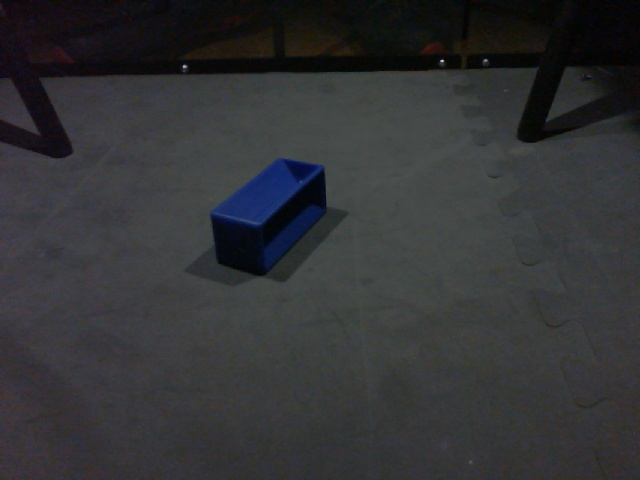BlueSample: (206, 157, 330, 278)
